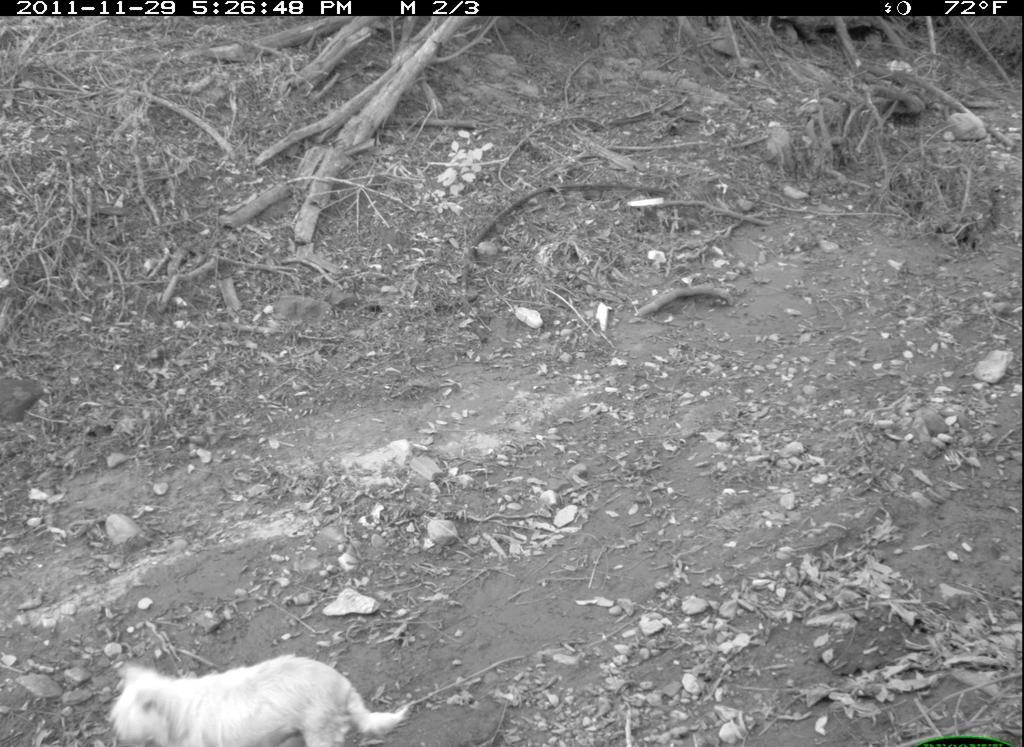dog: (107, 652, 411, 744)
